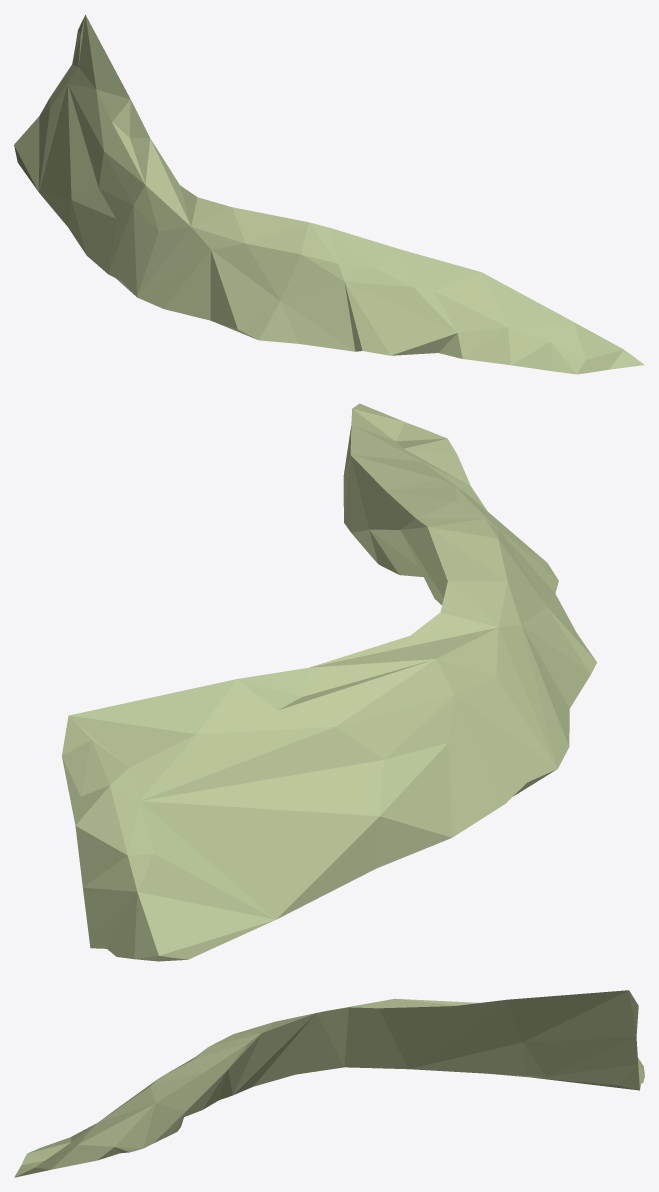
File: hill_12.gltf
The picture shows the model from 3 angles, top to bottom: view 1: azimuth 30°, elevation 25°; view 2: azimuth 150°, elevation 25°; view 3: azimuth 270°, elevation 25°; orthographic projection. The views are drawn at different scales.
Parts seen in each view (by area): view 1: hill; view 2: hill; view 3: hill.
Part boxes in pixels (box(x1,y1,x2,y2)): hill: box(14, 15, 644, 374); hill: box(62, 403, 596, 961); hill: box(14, 990, 644, 1177).
Bounding box in the file's own units: 3.82 × 1.52 × 7.96.
